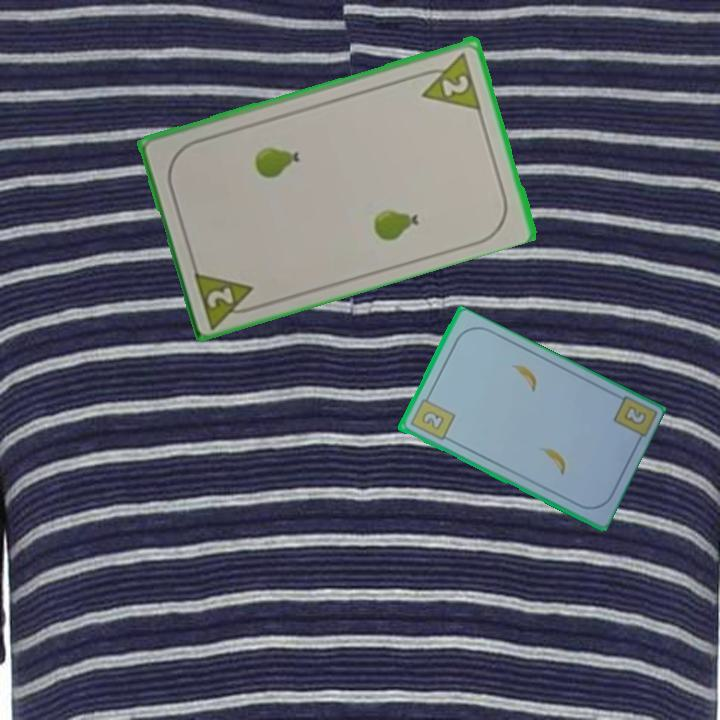2b: (406, 390, 457, 443), (620, 402, 649, 428)
2p: (190, 265, 264, 329), (413, 48, 484, 112)
